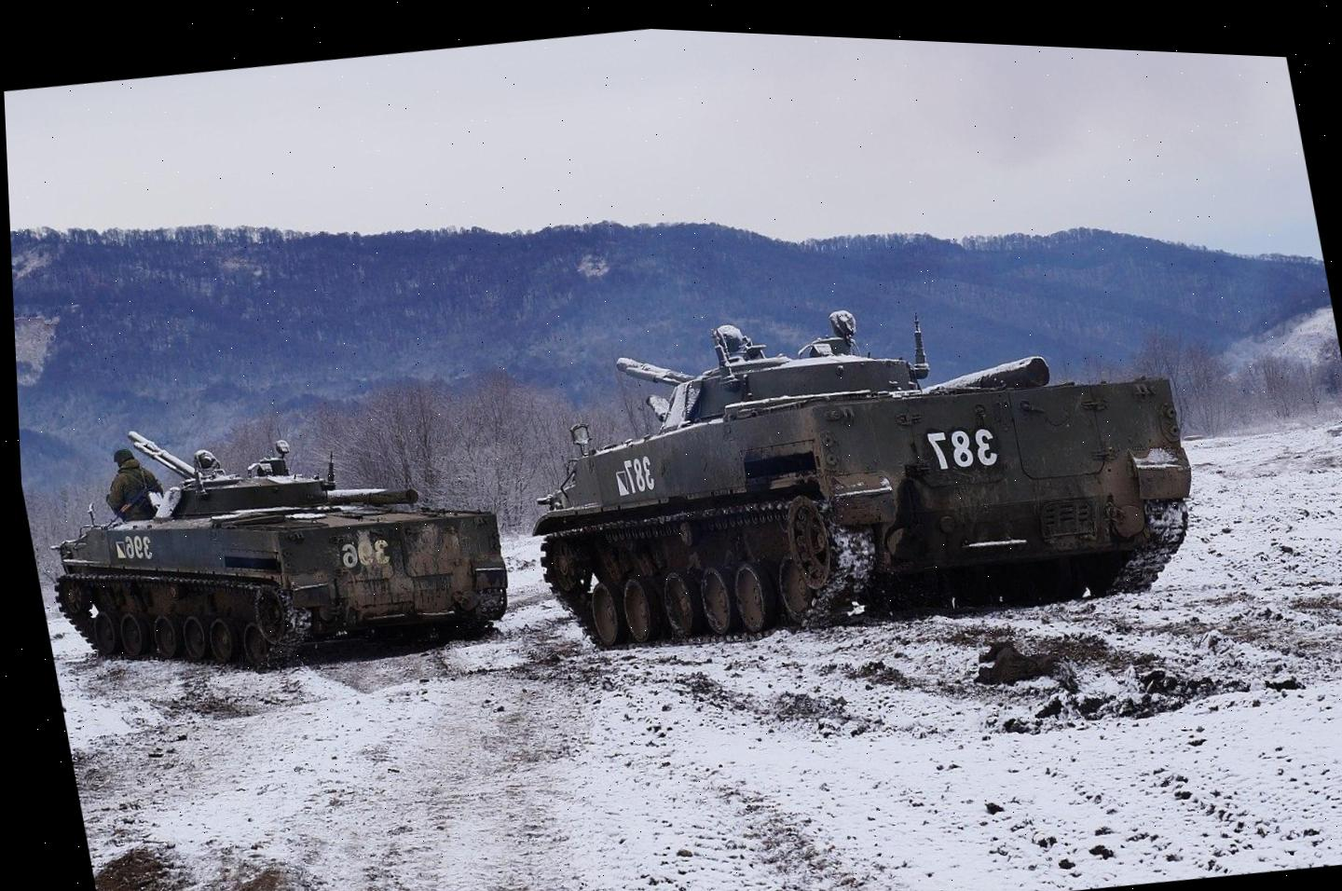tank: (488, 246, 1218, 691), (17, 379, 542, 718)
